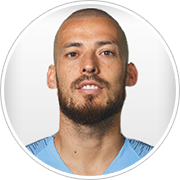smile: (75, 80, 102, 94)
